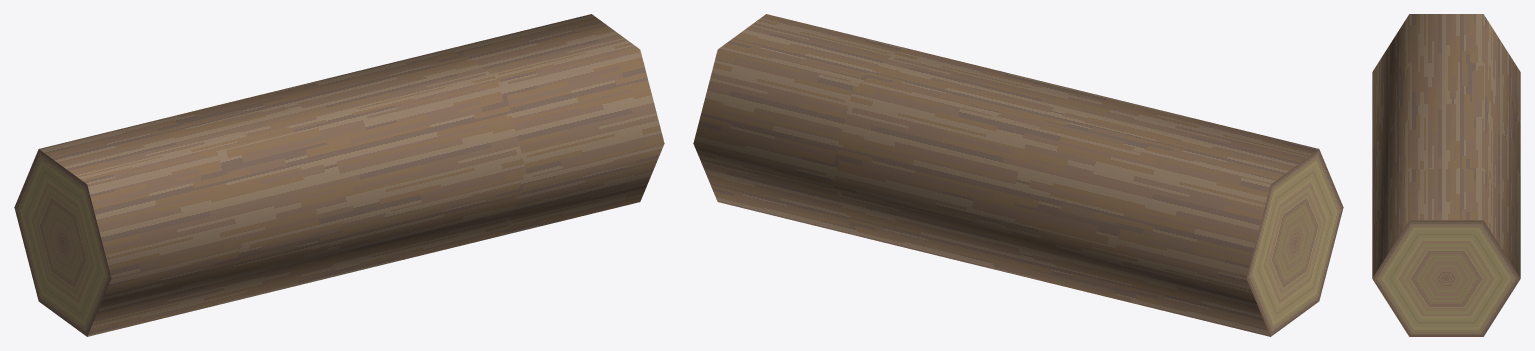
File: 0457_Log.glb
3 renders of one model, left to right at view 1: azimuth 30°, elevation 25°; view 2: azimuth 150°, elevation 25°; view 3: azimuth 270°, elevation 25°, orthographic. The views are drawn at different scales.
Parts seen in each view (by area): view 1: part_0; view 2: part_0; view 3: part_0.
Part boxes in pixels (left/top/right/bottom): part_0: left=14, top=14, right=664, bottom=336; part_0: left=693, top=14, right=1343, bottom=336; part_0: left=1372, top=14, right=1520, bottom=336.
Bounding box in the file's own units: 1.29 × 0.3411 × 0.3938.
1 material, 1 textured.
